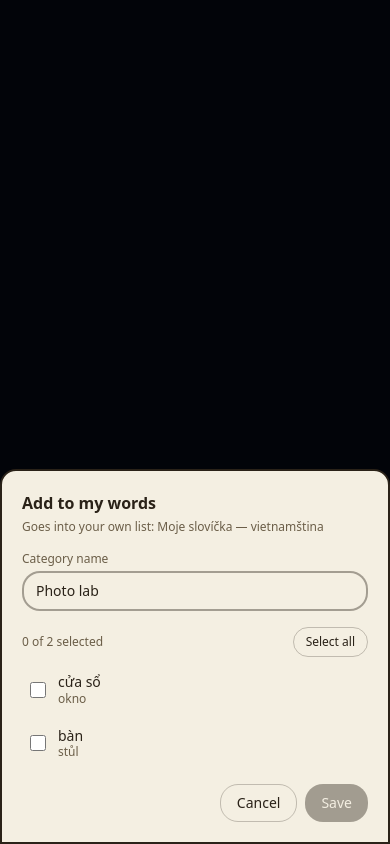
Test: SaveWordsModal › saves only the ticked labels, with their audio hashes
Click the checkbox labelled "cửa sổ okno": x=38, y=690 [30,682,46,698]
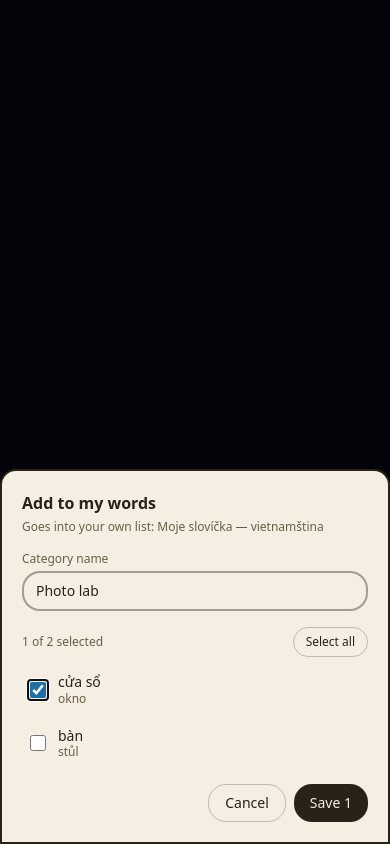
Click the button "Save 1": x=331, y=803 [294,784,368,822]
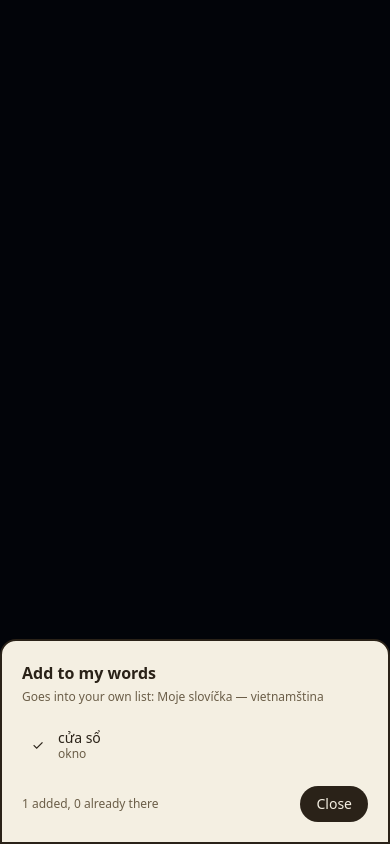
Expected: the text "1 added, 0 already there" is shown, [22,796,159,812]
